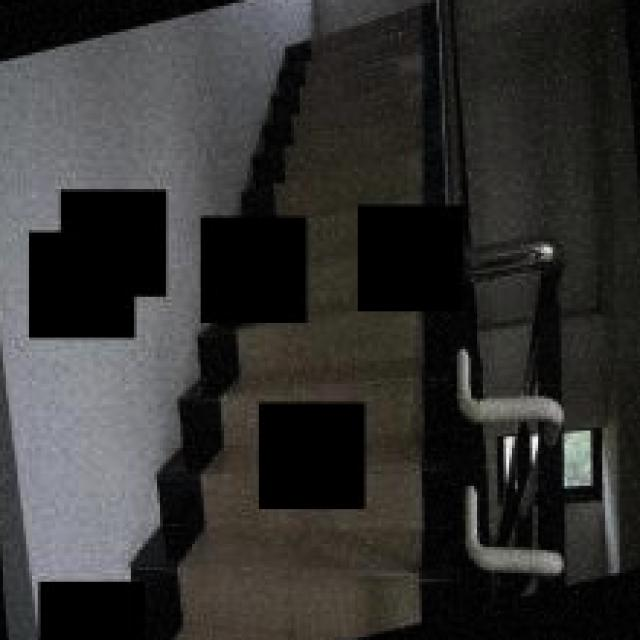upstair: (284, 51, 438, 190)
